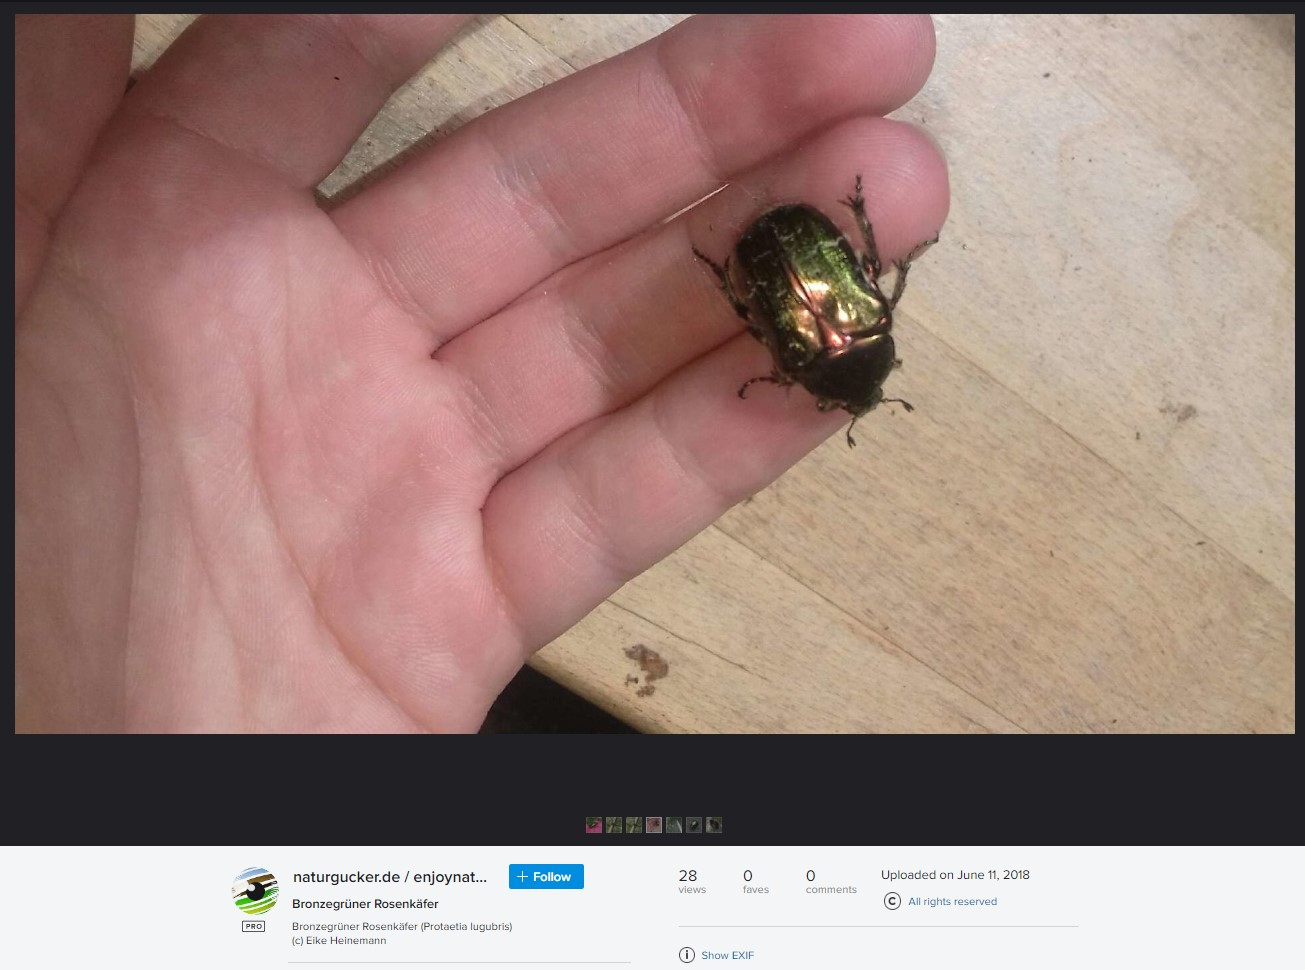Protaetia_lugubris: (679, 168, 948, 461)
